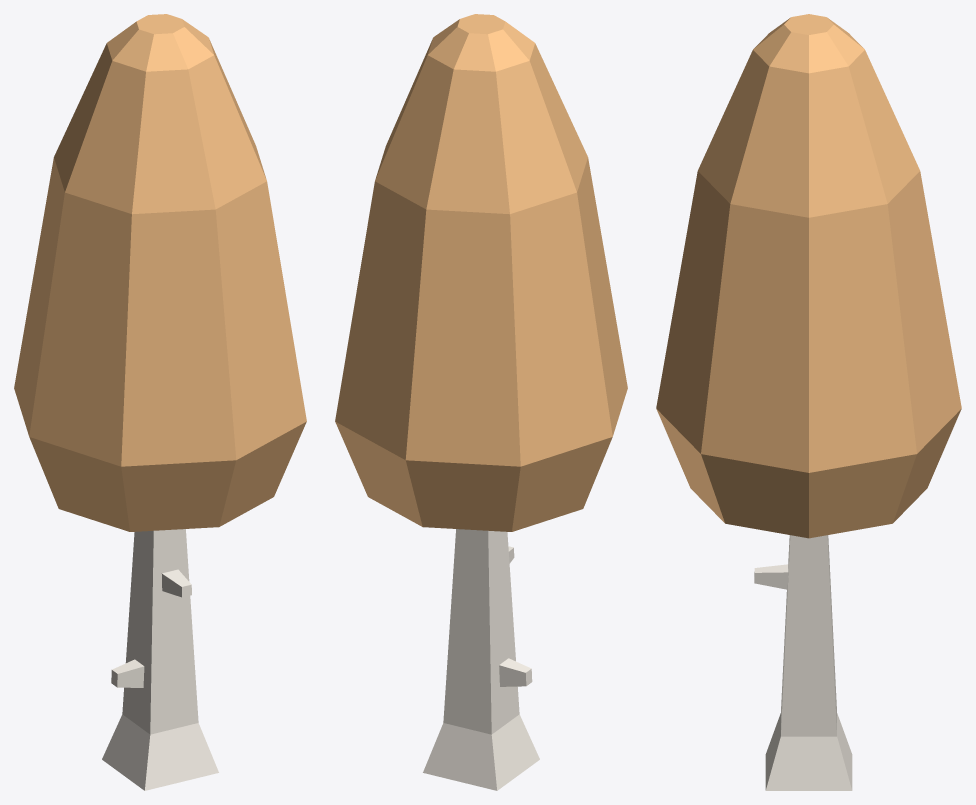
The picture shows the model from 3 angles, left to right: view 1: azimuth 30°, elevation 25°; view 2: azimuth 150°, elevation 25°; view 3: azimuth 270°, elevation 25°; orthographic projection.
Parts seen in each view (by area): view 1: tree_cone_fall; view 2: tree_cone_fall; view 3: tree_cone_fall.
Boxes of the visible parts, x1=… form: tree_cone_fall: x1=14, y1=14, x2=306, y2=790; tree_cone_fall: x1=335, y1=14, x2=627, y2=790; tree_cone_fall: x1=656, y1=14, x2=961, y2=790.
Size of the model in its own units: 0.5297 by 1.43 by 0.5297.
